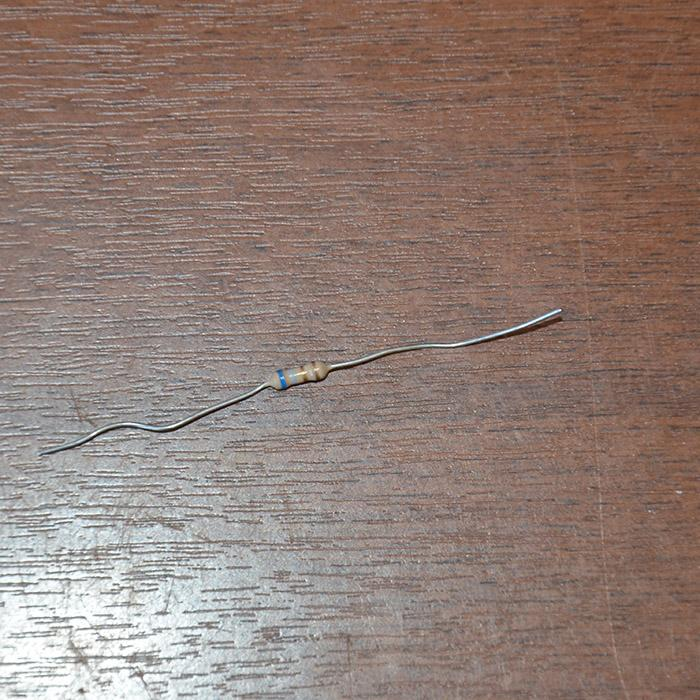resistor: (269, 361, 328, 392)
